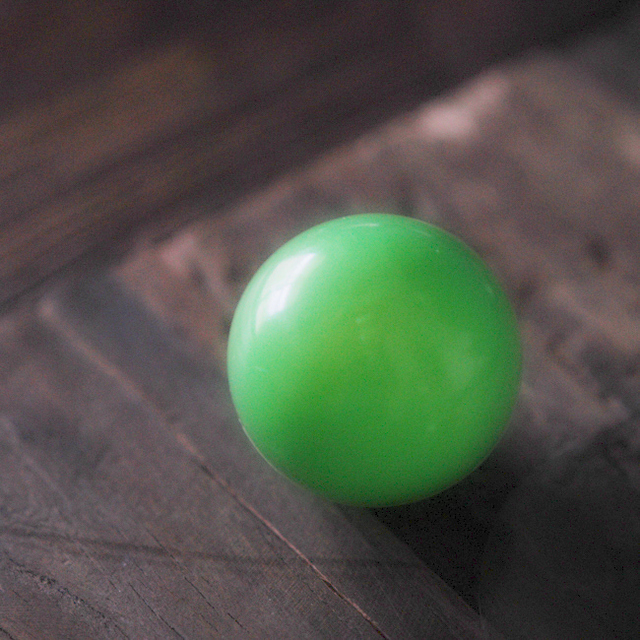Ball: (234, 213, 523, 508)
